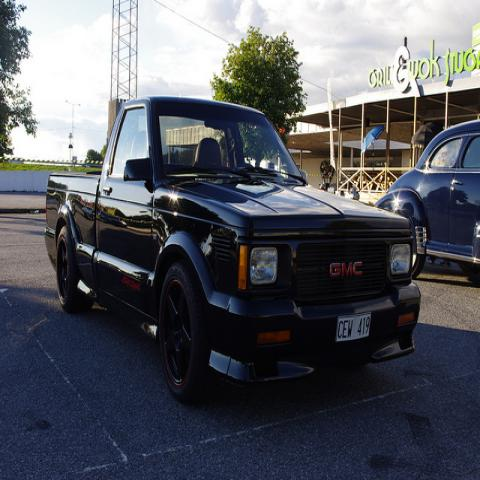car: (375, 121, 479, 266)
truck: (42, 96, 424, 406)
